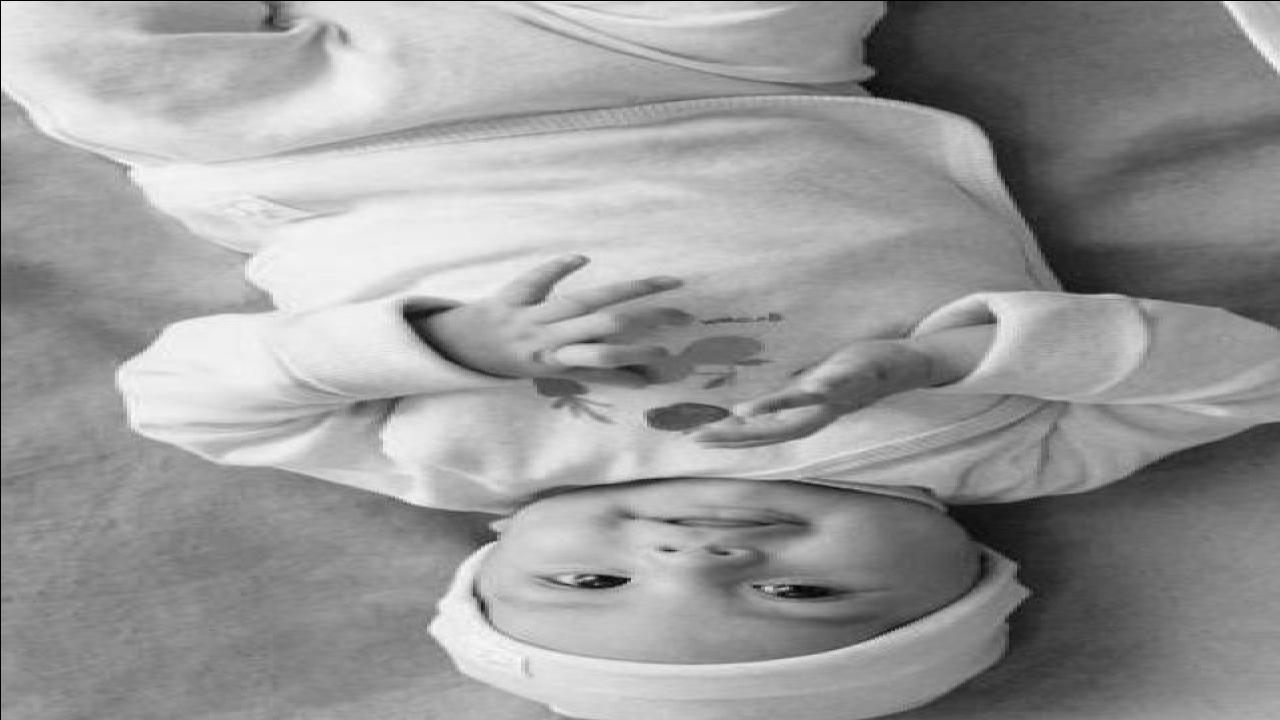hand: (428, 253, 692, 387), (682, 331, 922, 454)
